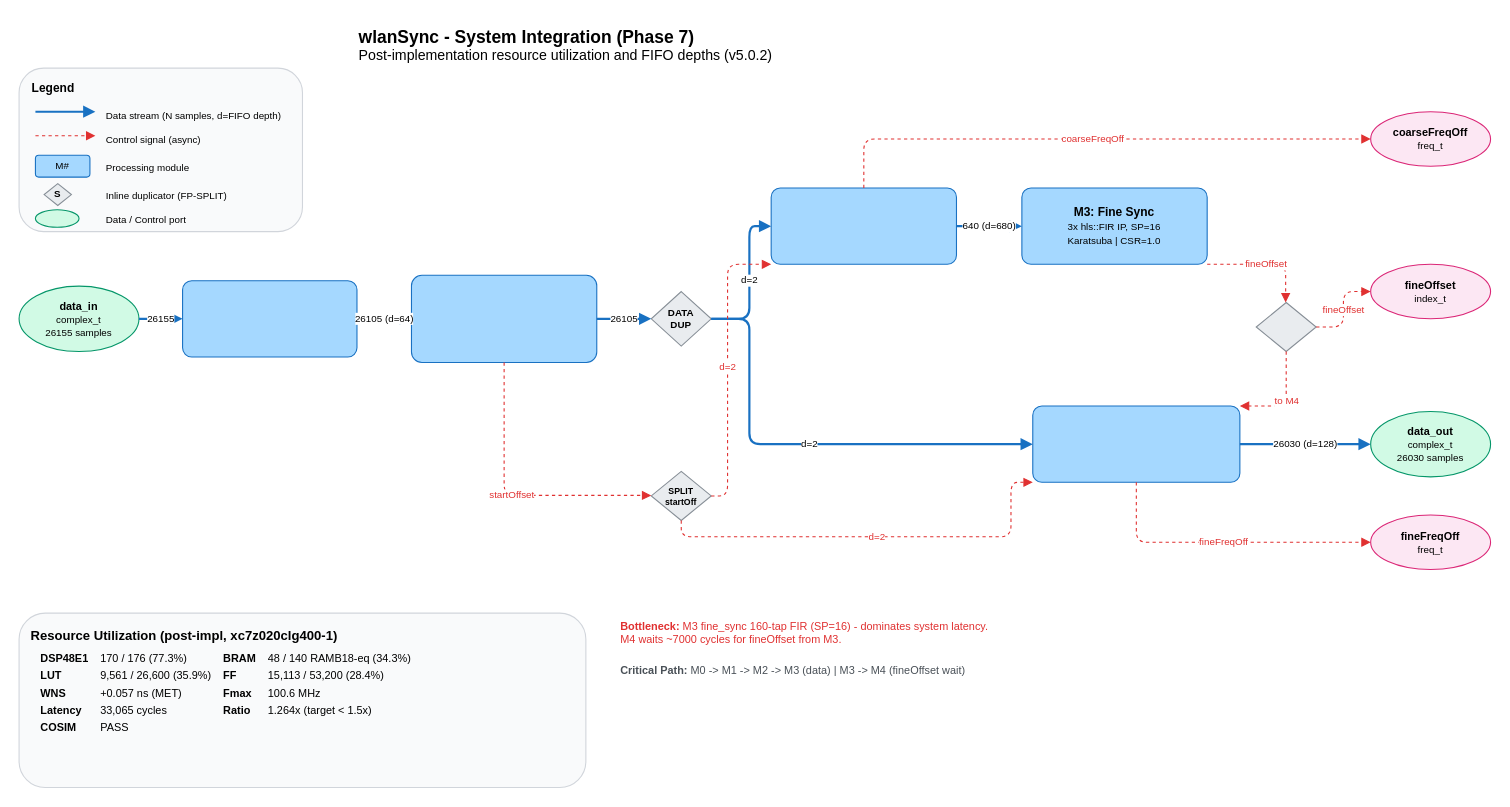
This 1510x807 diagram has some shape labels left out. The centre of each missing label's shape, as x and y in pixels:
I/O: the point at 56,218
M0: Prefilter 51-tap symmetric FIR II=1 | CSR=1.0: the point at 269,318
M1: Packet Detect L-STF detection + write-through II=1 | CSR=1.0: the point at 503,318
M2: Coarse CFO FSM + DATAFLOW circ_buf[2048] | CSR=4.0: the point at 863,225
M4: Fine CFO Apply Dual-async FSM + DATAFLOW circ_buf[8192] | CSR=162.7: the point at 1136,443
SPLIT fineOff: the point at 1285,326
